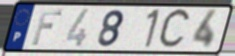1: (144, 8, 161, 50)
4: (189, 7, 219, 52), (64, 7, 91, 49)
8: (96, 8, 125, 49)
C: (156, 6, 193, 52)
F: (30, 8, 65, 47)
